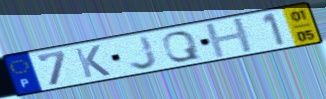1: (261, 11, 288, 47)
7: (35, 48, 69, 87)
H: (203, 16, 258, 60)
J: (128, 33, 161, 71)
K: (72, 43, 114, 80)
Q: (160, 30, 203, 63)
